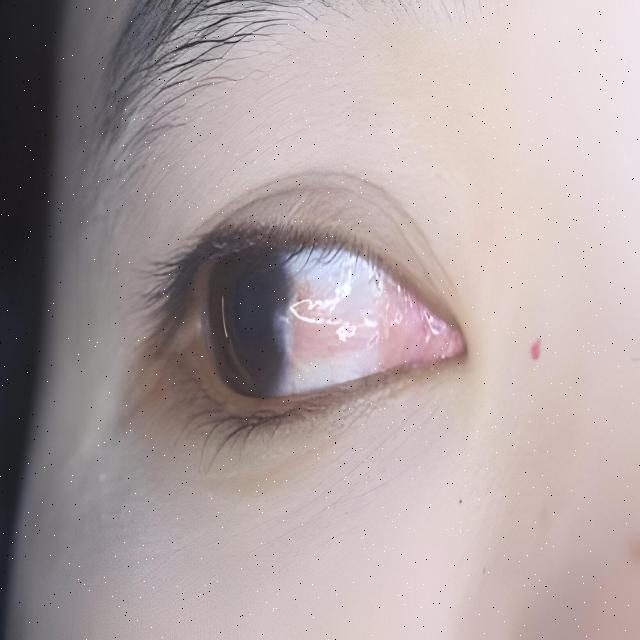Pterygium: (274, 259, 426, 373)
